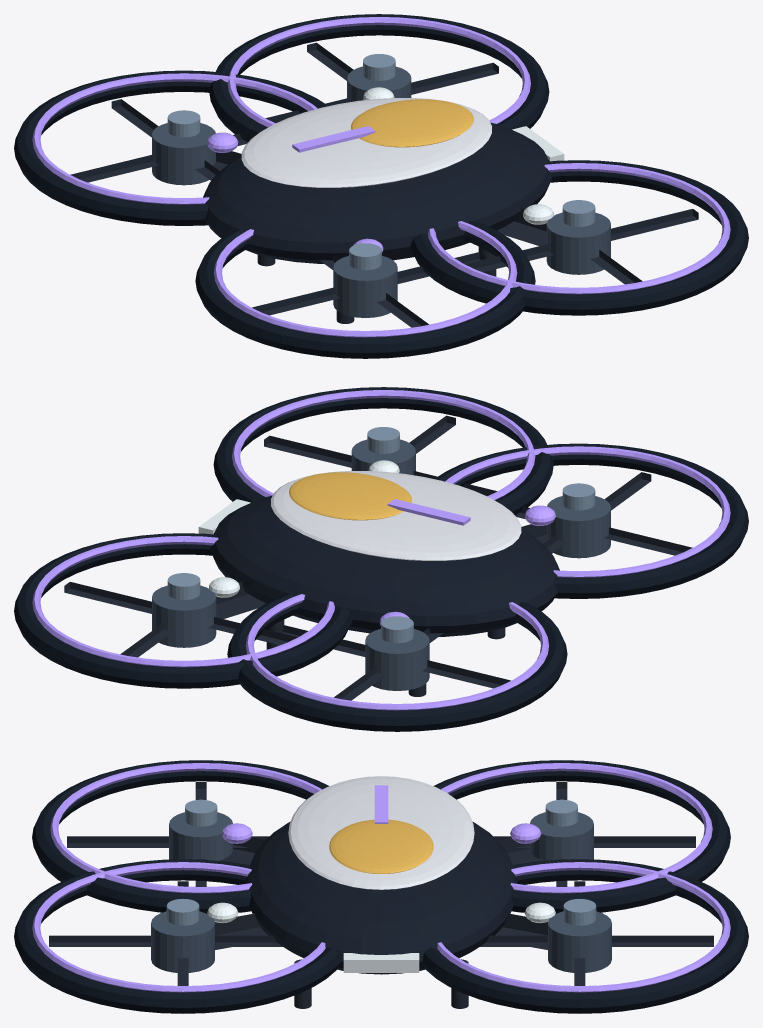
Rendered from festival_body.dae.
3 renders of one model, top to bottom at view 1: azimuth 30°, elevation 25°; view 2: azimuth 150°, elevation 25°; view 3: azimuth 270°, elevation 25°, orthographic.
Parts seen in each view (by area): view 1: guard, shell, accent, top, carbon, motor, gold, silver, light; view 2: guard, shell, accent, top, carbon, motor, gold, silver, light; view 3: guard, shell, accent, top, carbon, motor, gold, silver, light.
Boxes of the visible parts, box(x1,y1,x2,y2) form: guard: box(14, 14, 748, 358); shell: box(203, 122, 552, 263); accent: box(32, 17, 730, 337); top: box(241, 98, 491, 187); carbon: box(70, 42, 698, 327); motor: box(152, 66, 610, 317); gold: box(351, 99, 473, 147); silver: box(167, 54, 595, 270); light: box(363, 87, 564, 224); guard: box(14, 387, 748, 731); shell: box(210, 495, 559, 636); accent: box(32, 390, 730, 710); top: box(271, 471, 521, 560); carbon: box(64, 415, 692, 700); motor: box(152, 439, 610, 690); gold: box(289, 472, 411, 520); silver: box(167, 427, 595, 643); light: box(198, 460, 399, 597); guard: box(14, 760, 748, 1013); shell: box(245, 821, 517, 974); accent: box(32, 763, 730, 992); top: box(288, 776, 474, 889); carbon: box(49, 782, 713, 1008); motor: box(151, 812, 611, 972); gold: box(329, 819, 433, 873); silver: box(166, 799, 596, 925); light: box(207, 902, 555, 972).
Bounding box in the file's own units: 0.9843 × 1.26 × 0.277.
